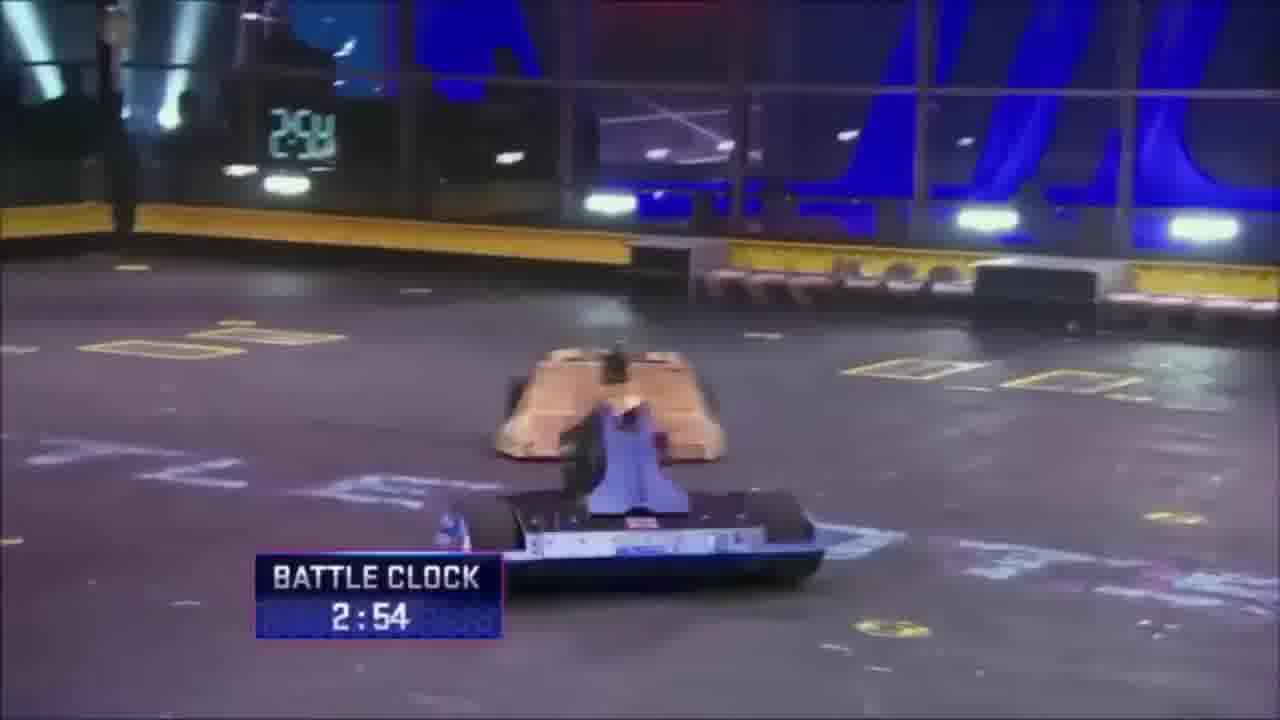combatbot: (432, 472, 830, 603), (488, 343, 731, 480)
